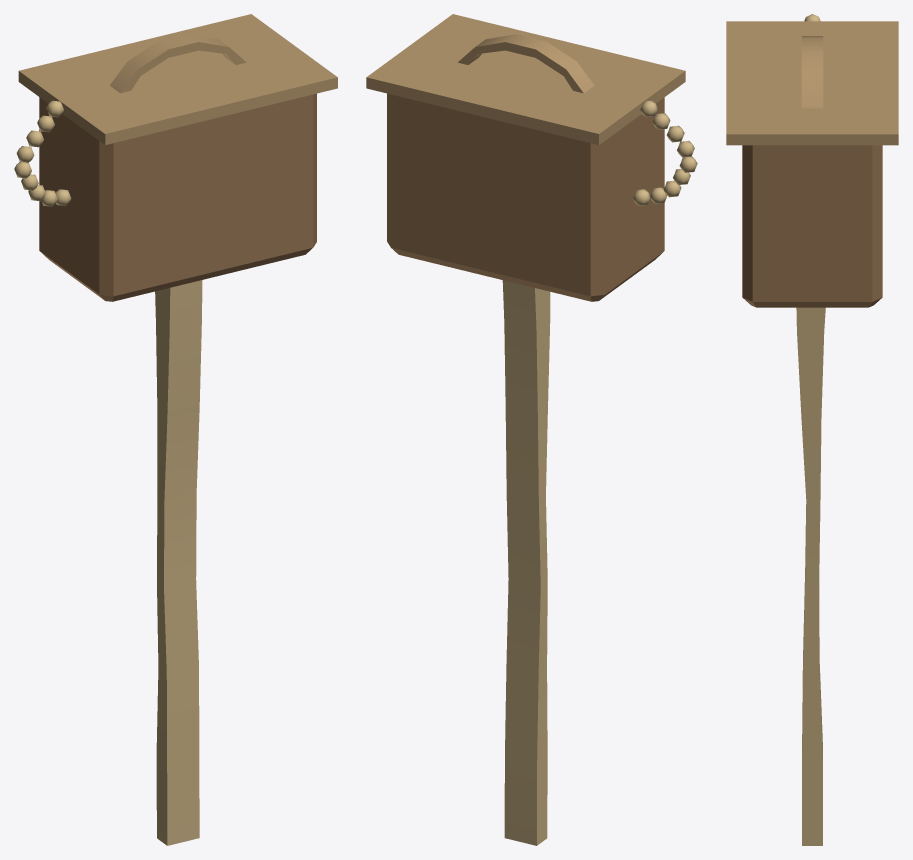
File: atoll_mailBox.fbx
The picture shows the model from 3 angles, left to right: view 1: azimuth 30°, elevation 25°; view 2: azimuth 150°, elevation 25°; view 3: azimuth 270°, elevation 25°; orthographic projection.
Parts seen in each view (by area): view 1: Box, Post, Lid, Handle; view 2: Box, Post, Lid, Handle; view 3: Box, Lid, Post, Handle.
Part boxes in pixels (left/top/right/bottom): Box: left=39, top=93, right=316, bottom=301; Post: left=155, top=280, right=202, bottom=845; Lid: left=18, top=14, right=337, bottom=145; Handle: left=110, top=34, right=246, bottom=93; Box: left=387, top=93, right=664, bottom=301; Post: left=502, top=280, right=550, bottom=845; Lid: left=366, top=14, right=685, bottom=144; Handle: left=458, top=34, right=594, bottom=93; Box: left=742, top=145, right=882, bottom=307; Lid: left=726, top=21, right=898, bottom=145; Post: left=796, top=307, right=825, bottom=845; Handle: left=801, top=36, right=823, bottom=108.
Bounding box in the file's own units: 70.01 × 188 × 37.09.
